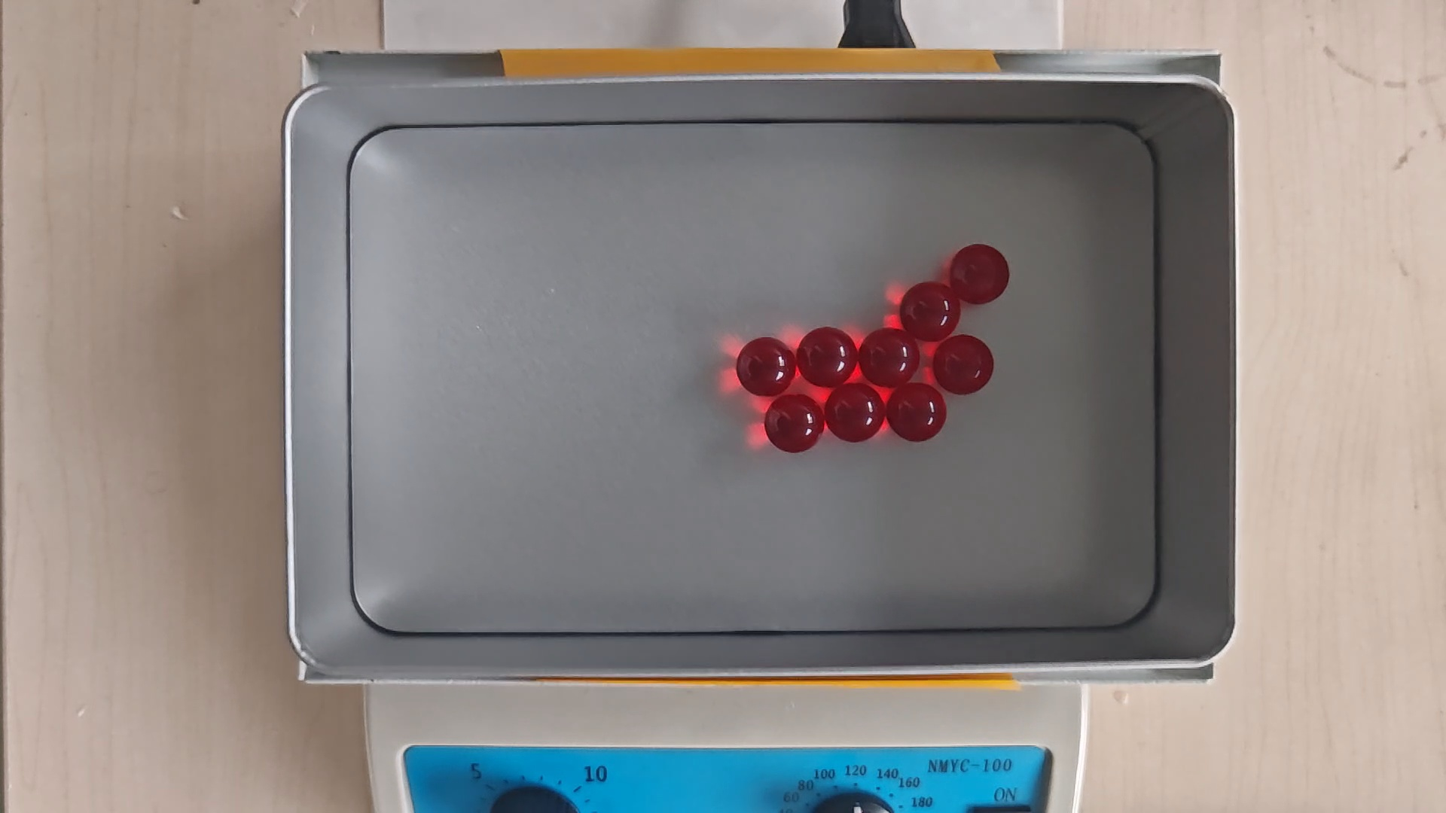ball: (933, 335, 994, 396), (950, 243, 1010, 305), (765, 395, 825, 454), (901, 281, 959, 342), (797, 326, 855, 387), (736, 336, 794, 397), (827, 382, 885, 442), (888, 383, 946, 442), (860, 328, 919, 386)
container: (342, 118, 1163, 632)
